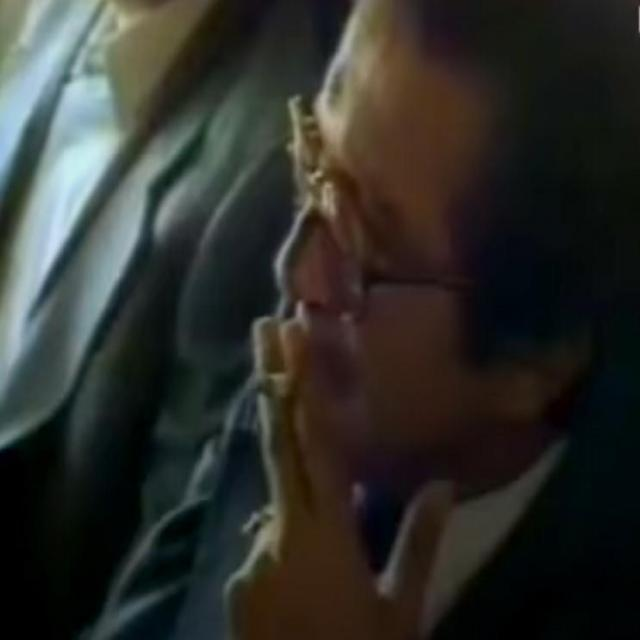smoke: (238, 307, 335, 439)
